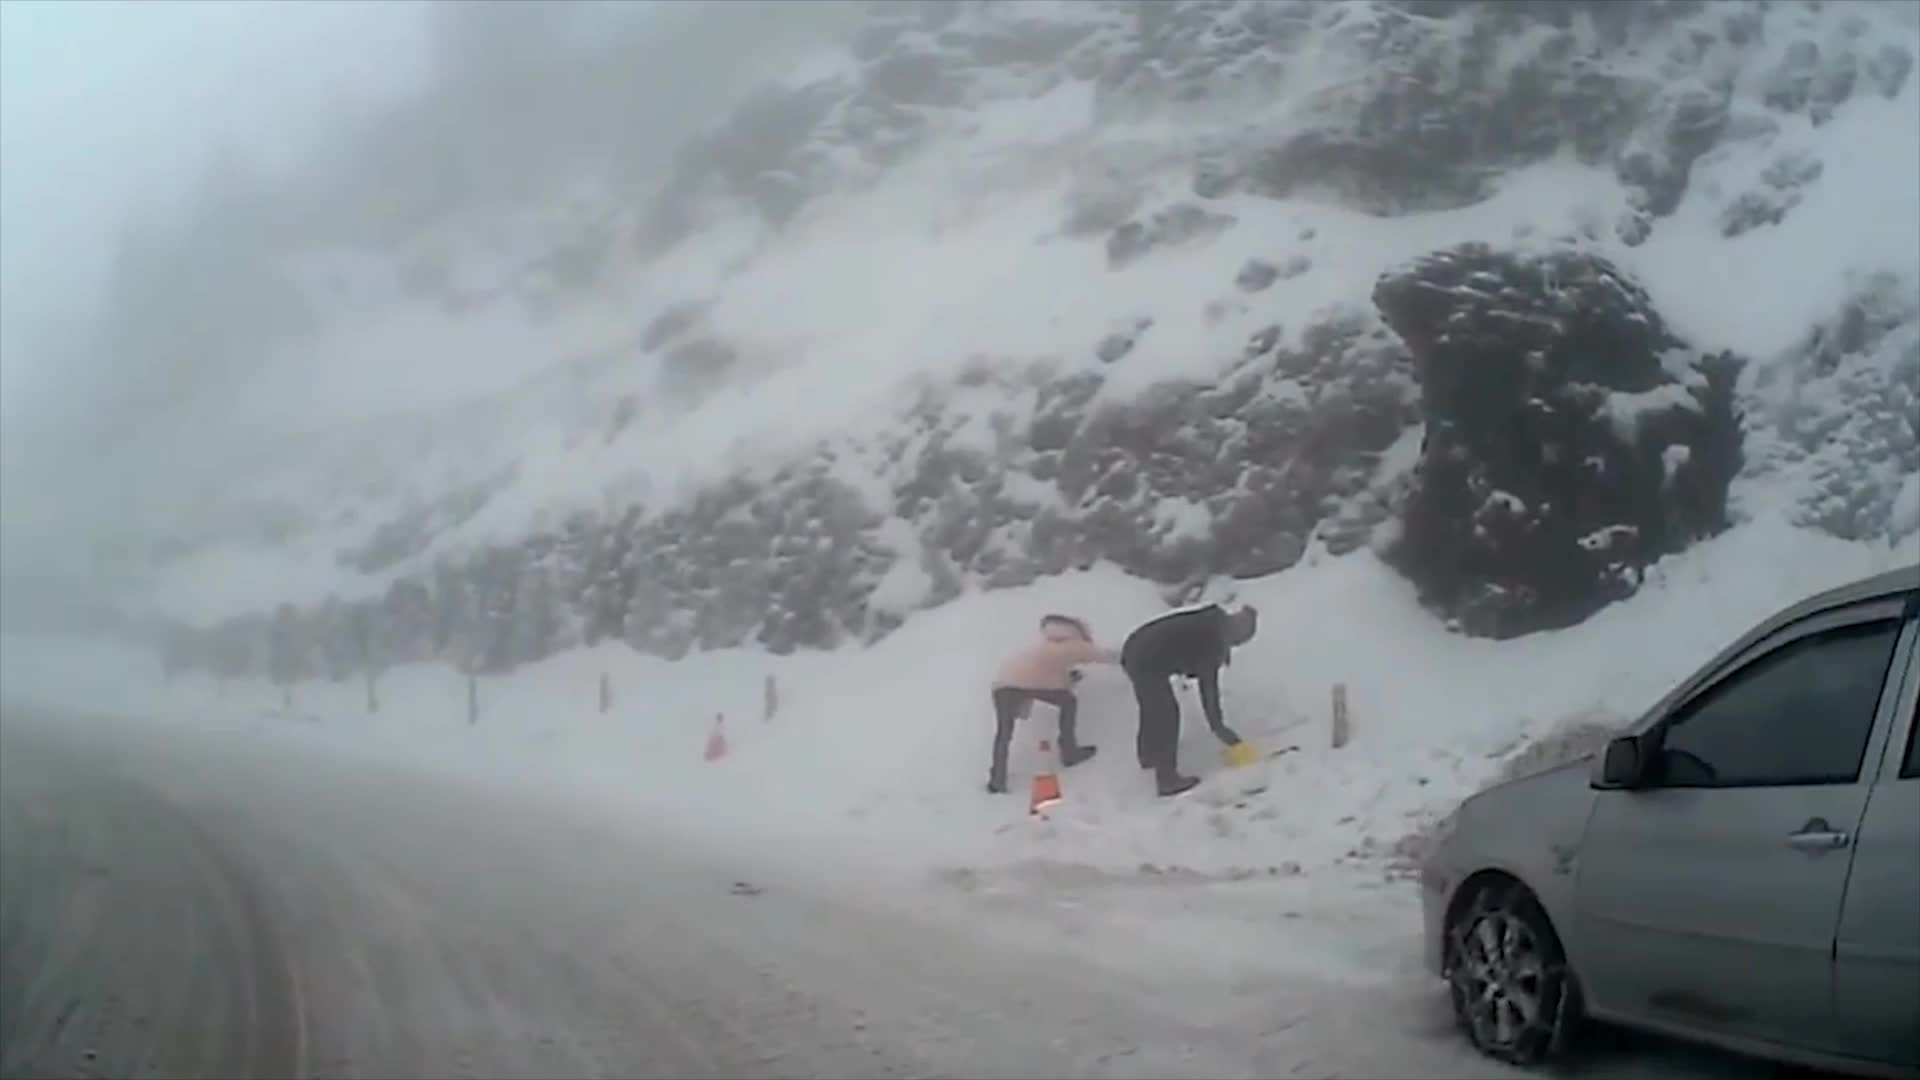pedestrian: (1121, 597, 1255, 794), (982, 611, 1125, 790)
vehicle: (1417, 559, 1920, 1080)
